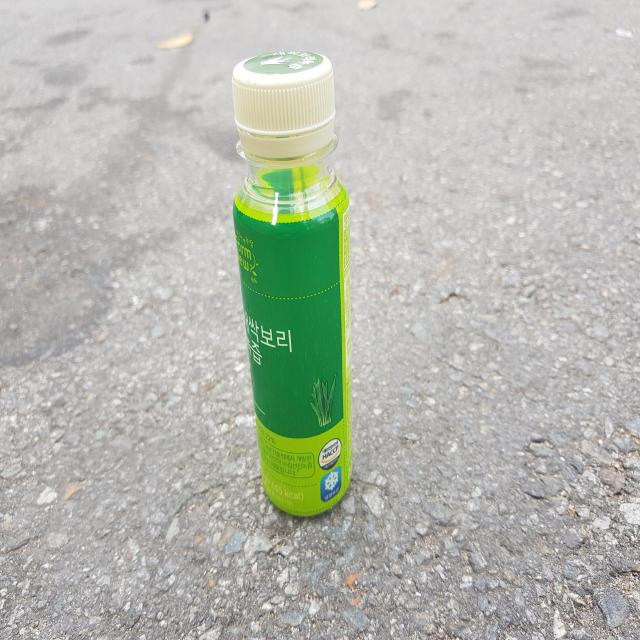plastic: (232, 50, 352, 516)
